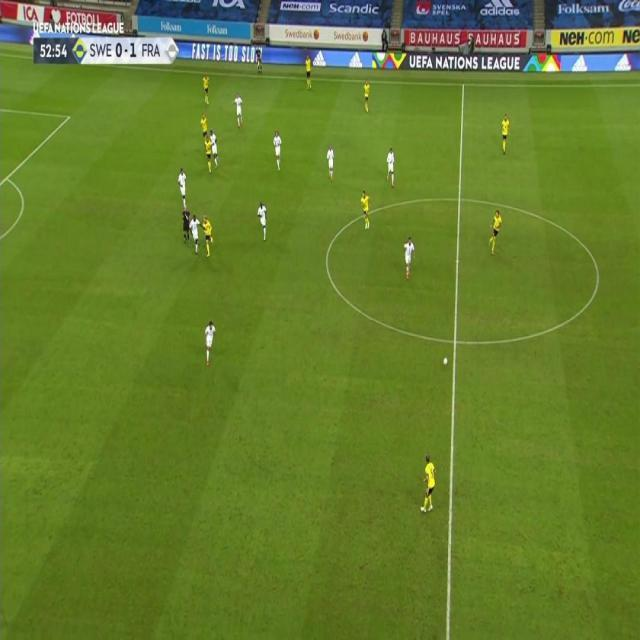ball: (442, 355, 448, 367)
player: (419, 453, 438, 514), (487, 208, 503, 254), (202, 318, 216, 368), (402, 234, 416, 280), (188, 213, 202, 256), (359, 188, 372, 230), (202, 214, 214, 258), (177, 167, 189, 209), (256, 200, 268, 242), (208, 129, 220, 171), (499, 112, 511, 154), (204, 133, 216, 175), (272, 129, 283, 171), (385, 146, 396, 187), (232, 92, 244, 128), (326, 143, 336, 182), (304, 53, 313, 90), (199, 112, 209, 145), (201, 72, 211, 105), (362, 77, 371, 113)
referee: (181, 204, 191, 245), (255, 45, 263, 75)
